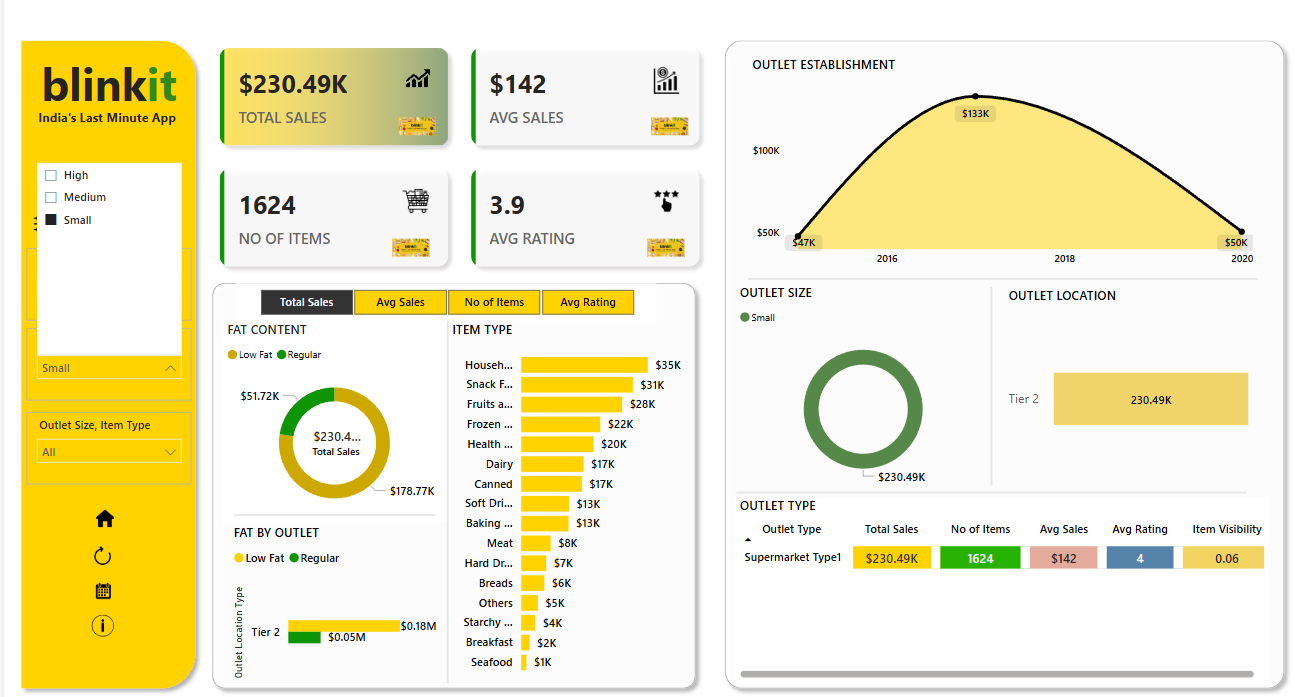

The dashboard page shown, as its layout file describes it:
{"tool":"powerbi","page":{"name":"Page 1","canvas":[1400,800],"ordinal":0},"visuals":[{"type":"textbox","box":[10,290,280,280],"z":0},{"type":"shape","box":[9.4,42.9,205.1,713.1],"z":1000},{"type":"textbox","box":[29.5,60.3,166.2,77.7],"z":2000},{"type":"textbox","box":[20.1,120.6,181,36.2],"z":3000},{"type":"cardVisual","fields":{"Data":["BlinkIT Grocery Data.Total Sales","BlinkIT Grocery Data.Avg Sales","BlinkIT Grocery Data.No of Items","BlinkIT Grocery Data.Avg Rating"]},"box":[214.5,42.9,549.6,269.4],"z":4000},{"type":"shape","box":[214.5,303,536.2,453.1],"z":5000},{"type":"donutChart","title":"FAT CONTENT","fields":{"Y":["BlinkIT Grocery Data.Total Sales"],"Category":["BlinkIT Grocery Data.Item Fat Content"]},"box":[234.6,352.5,239.9,217.2],"z":6000},{"type":"slicer","fields":{"Values":["Metrics.Metrics"]},"box":[249.3,312.3,450.4,40.2],"z":7000},{"type":"clusteredBarChart","title":"FAT BY OUTLET ","fields":{"Y":["BlinkIT Grocery Data.Total Sales"],"Category":["BlinkIT Grocery Data.Outlet Location Type"],"Series":["BlinkIT Grocery Data.Item Fat Content"]},"box":[241.3,569.7,227.9,181],"z":8000},{"type":"shape","box":[246.7,552.3,215.8,17.4],"z":9000},{"type":"shape","box":[462.5,352.5,26.8,388.7],"z":10000},{"type":"barChart","title":"ITEM TYPE","fields":{"Y":["BlinkIT Grocery Data.Total Sales"],"Category":["BlinkIT Grocery Data.Item Type"]},"box":[475.9,352.5,262.7,388.7],"z":11000},{"type":"cardVisual","fields":{"Data":["BlinkIT Grocery Data.Total Sales"]},"box":[312.3,450.4,87.1,60.3],"z":12000},{"type":"shape","box":[764.1,42.9,618,713.1],"z":13000},{"type":"lineChart","title":"OUTLET ESTABLISHMENT ","fields":{"Y":["BlinkIT Grocery Data.Total Sales"],"Category":["BlinkIT Grocery Data.Outlet Establishment Year"]},"box":[797.6,68.4,546.9,234.6],"z":14000},{"type":"shape","box":[797.6,303,546.9,9.4],"z":15000},{"type":"donutChart","title":"OUTLET SIZE","fields":{"Y":["BlinkIT Grocery Data.Total Sales"],"Category":["BlinkIT Grocery Data.Outlet Size"]},"box":[784.2,312.3,274.8,225.2],"z":16000},{"type":"shape","box":[1045.6,316.4,26.8,213.1],"z":17000},{"type":"funnel","title":" OUTLET LOCATION","fields":{"Category":["BlinkIT Grocery Data.Outlet Location Type"],"Y":["Sum(BlinkIT Grocery Data.Sales)"]},"box":[1072.4,316.4,272.1,221.2],"z":18000},{"type":"shape","box":[785.5,532.2,546.9,9.4],"z":19000},{"type":"pivotTable","title":"OUTLET TYPE","fields":{"Rows":["BlinkIT Grocery Data.Outlet Type"],"Values":["BlinkIT Grocery Data.Total Sales","BlinkIT Grocery Data.No of Items","BlinkIT Grocery Data.Avg Sales","BlinkIT Grocery Data.Avg Rating","Avg(BlinkIT Grocery Data.Item Visibility)"]},"box":[784.2,541.6,572.4,199.7],"z":20000},{"type":"slicer","fields":{"Values":["BlinkIT Grocery Data.Outlet Location Type"]},"box":[24.1,274.8,176.9,77.7],"z":21000},{"type":"slicer","fields":{"Values":["BlinkIT Grocery Data.Outlet Size"]},"box":[24.1,360.6,176.9,77.7],"z":22000},{"type":"slicer","fields":{"Values":["BlinkIT Grocery Data.Outlet Size","BlinkIT Grocery Data.Item Type"]},"box":[24.1,450.4,176.9,77.7],"z":23000},{"type":"textbox","box":[29.5,231.9,166.2,32.2],"z":24000},{"type":"image","box":[24.4,200.6,40.7,94.9],"z":25000},{"type":"image","box":[80,542.2,55.6,46.1],"z":26000},{"type":"image","box":[85.4,588.3,39.3,32.5],"z":27000},{"type":"image","box":[77.3,620.8,58.3,43.4],"z":28000},{"type":"image","box":[88.1,660.1,35.2,39.3],"z":29000},{"type":"image","box":[412.1,245.4,50.2,56.9],"z":30000},{"type":"image","box":[684.5,245.4,50.2,56.9],"z":31000},{"type":"image","box":[418.9,115.2,50.2,56.9],"z":32000},{"type":"image","box":[688.6,115.2,50.2,56.9],"z":33000}]}

Visuals, with their boxes on the page's 1400x800 design canvas (x1, y1, x2, y2). These are canvas units, not pixel positions in the 1295x697 screenshot, which may show the page scaled, cropped or inside an application window:
textbox: BBox(10, 290, 290, 570)
shape: BBox(9, 43, 214, 756)
textbox: BBox(30, 60, 196, 138)
textbox: BBox(20, 121, 201, 157)
cardVisual - BlinkIT Grocery Data.Total Sales x BlinkIT Grocery Data.Avg Sales: BBox(214, 43, 764, 312)
shape: BBox(214, 303, 751, 756)
"FAT CONTENT" donutChart: BBox(235, 352, 474, 570)
slicer - Metrics.Metrics: BBox(249, 312, 700, 352)
"FAT BY OUTLET " clusteredBarChart: BBox(241, 570, 469, 751)
shape: BBox(247, 552, 462, 570)
shape: BBox(462, 352, 489, 741)
"ITEM TYPE" barChart: BBox(476, 352, 739, 741)
cardVisual - BlinkIT Grocery Data.Total Sales: BBox(312, 450, 399, 511)
shape: BBox(764, 43, 1382, 756)
"OUTLET ESTABLISHMENT " lineChart: BBox(798, 68, 1344, 303)
shape: BBox(798, 303, 1344, 312)
"OUTLET SIZE" donutChart: BBox(784, 312, 1059, 538)
shape: BBox(1046, 316, 1072, 530)
" OUTLET LOCATION" funnel: BBox(1072, 316, 1344, 538)
shape: BBox(786, 532, 1332, 542)
"OUTLET TYPE" pivotTable: BBox(784, 542, 1357, 741)
slicer - BlinkIT Grocery Data.Outlet Location Type: BBox(24, 275, 201, 352)
slicer - BlinkIT Grocery Data.Outlet Size: BBox(24, 361, 201, 438)
slicer - BlinkIT Grocery Data.Outlet Size x BlinkIT Grocery Data.Item Type: BBox(24, 450, 201, 528)
textbox: BBox(30, 232, 196, 264)
image: BBox(24, 201, 65, 296)
image: BBox(80, 542, 136, 588)
image: BBox(85, 588, 125, 621)
image: BBox(77, 621, 136, 664)
image: BBox(88, 660, 123, 699)
image: BBox(412, 245, 462, 302)
image: BBox(684, 245, 735, 302)
image: BBox(419, 115, 469, 172)
image: BBox(689, 115, 739, 172)
